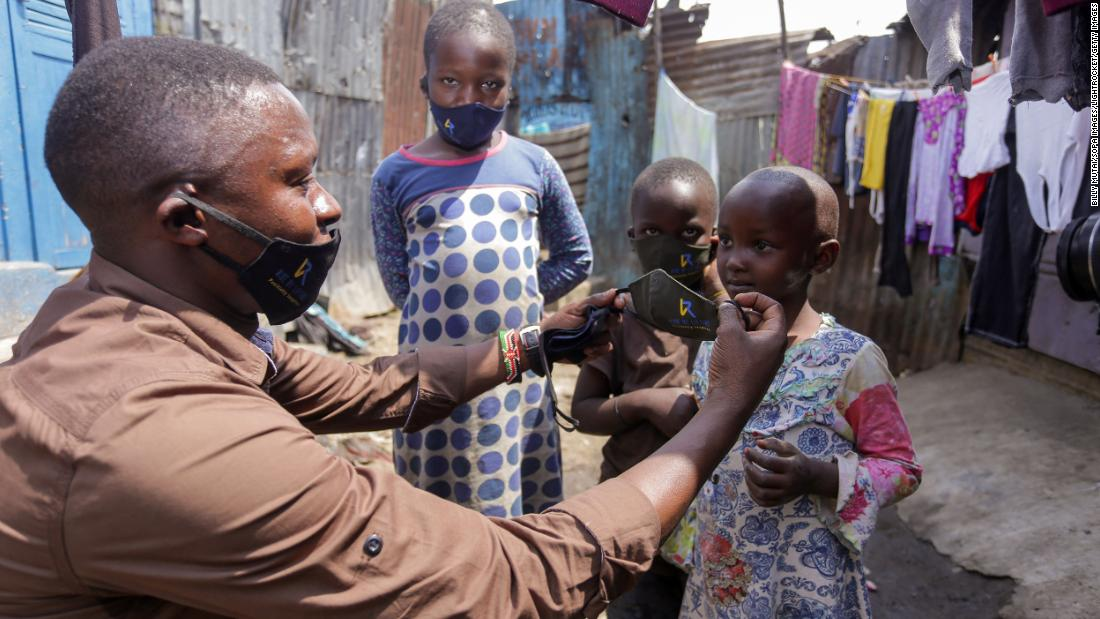with_incorrect_mask: (232, 92, 336, 301), (433, 40, 503, 139)
with_mask: (635, 205, 708, 268)
without_mask: (720, 215, 787, 294)
